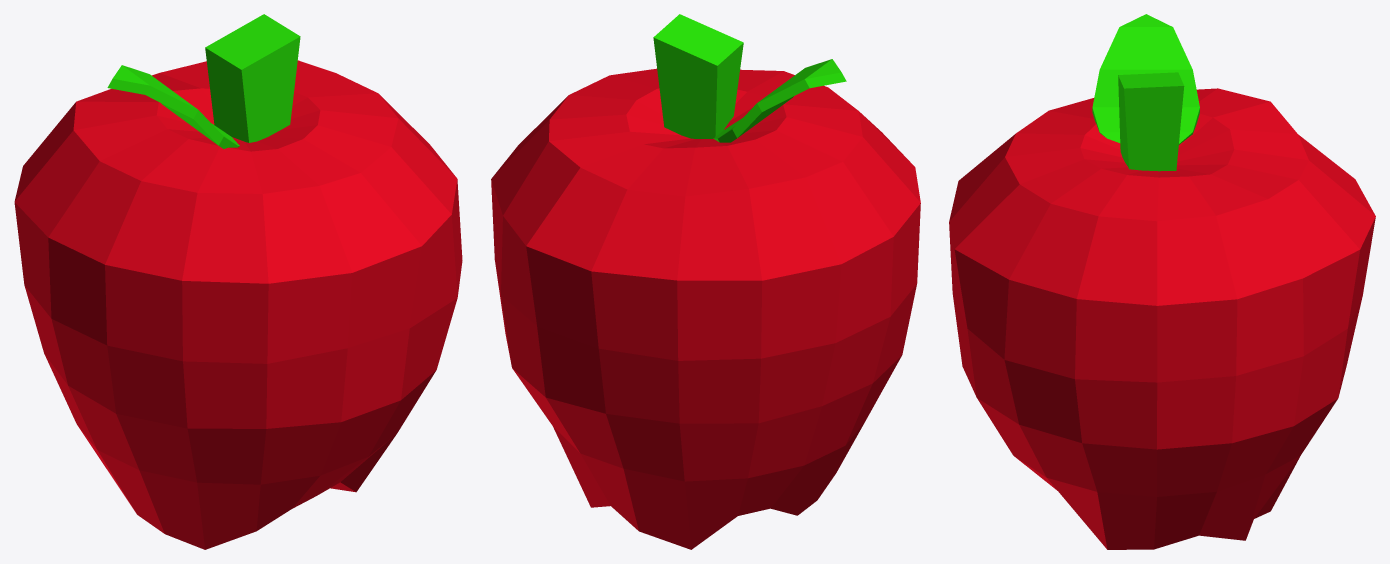
File: apple.fbx
3 renders of one model, left to right at view 1: azimuth 30°, elevation 25°; view 2: azimuth 150°, elevation 25°; view 3: azimuth 270°, elevation 25°, orthographic. The views are drawn at different scales.
Parts seen in each view (by area): view 1: Circle; view 2: Circle; view 3: Circle.
Part boxes in pixels (box(x1,y1,x2,y2)): Circle: box(14, 14, 462, 549); Circle: box(491, 14, 920, 549); Circle: box(949, 14, 1375, 549).
Size of the model in its own units: 203 by 239 by 207.
